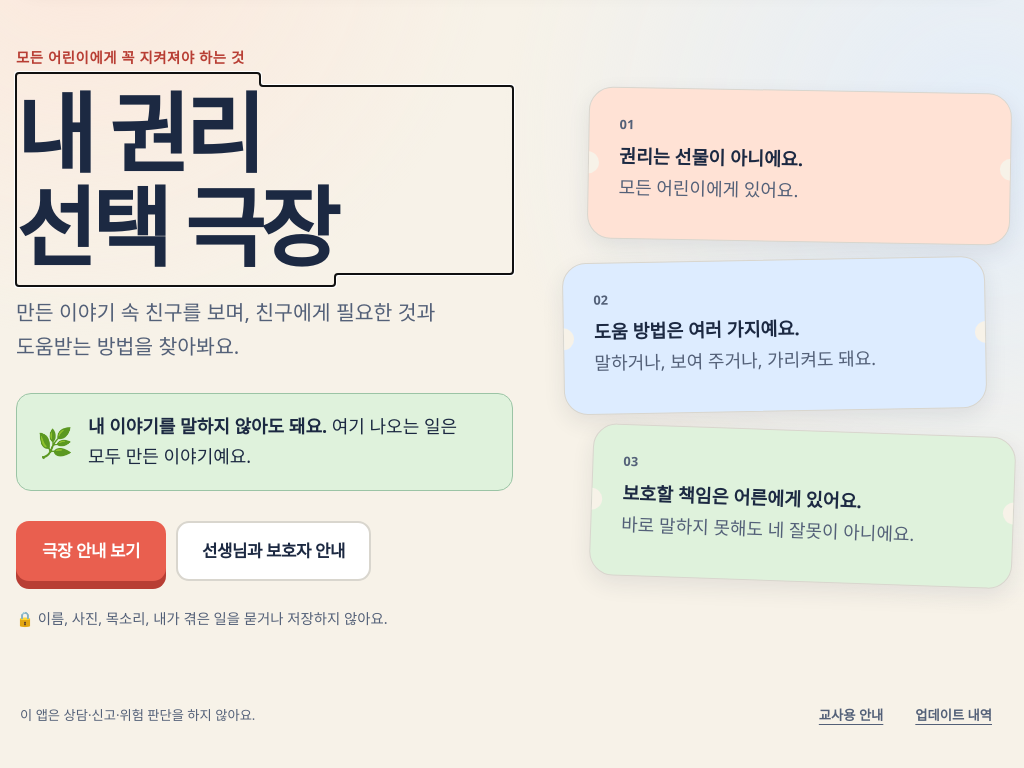
Test: 초등 저학년 학생 사용성 › 업데이트 내역에 학생 사용성 개선 날짜와 버전을 보여 준다
This screenshot has width=1024, height=768.
(page scrolled)
What coordinates should you click on to do the following:
click the button "업데이트 내역"
I would click on:
 (954, 716)
Its box is [903, 694, 1004, 738].
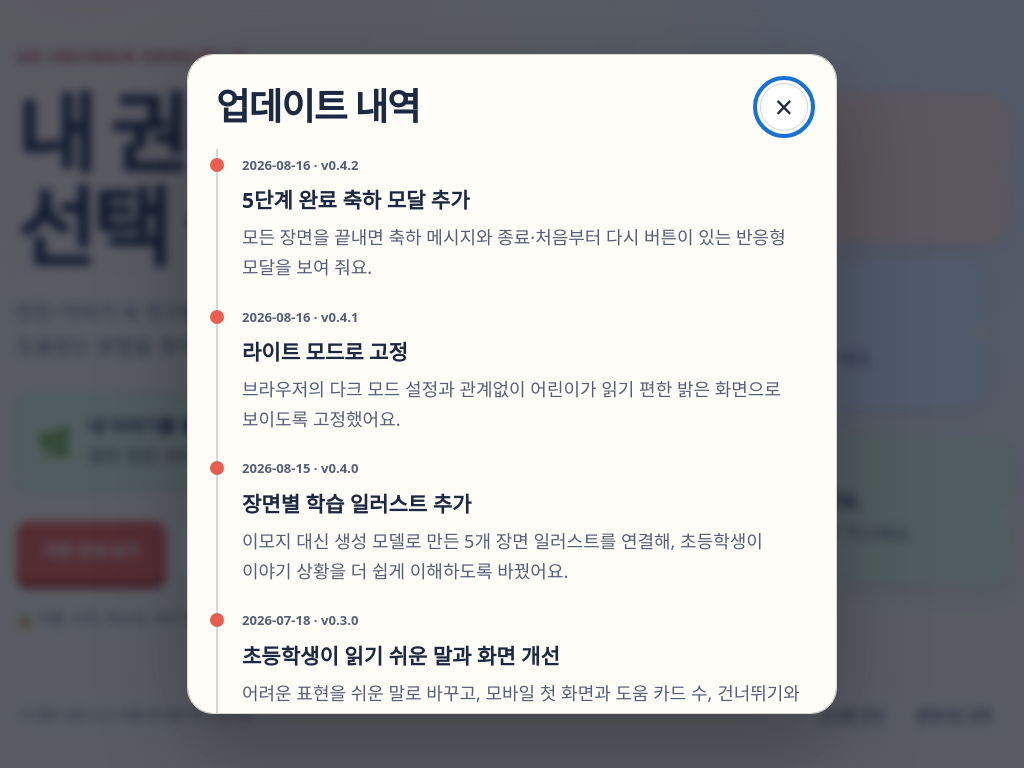
Now the text "2026-07-18 · v0.3.0" is shown, box [242, 611, 358, 629]
Now the heading "초등학생이 읽기 쉬운 말과 화면 개선" is shown, box [242, 641, 560, 670]
